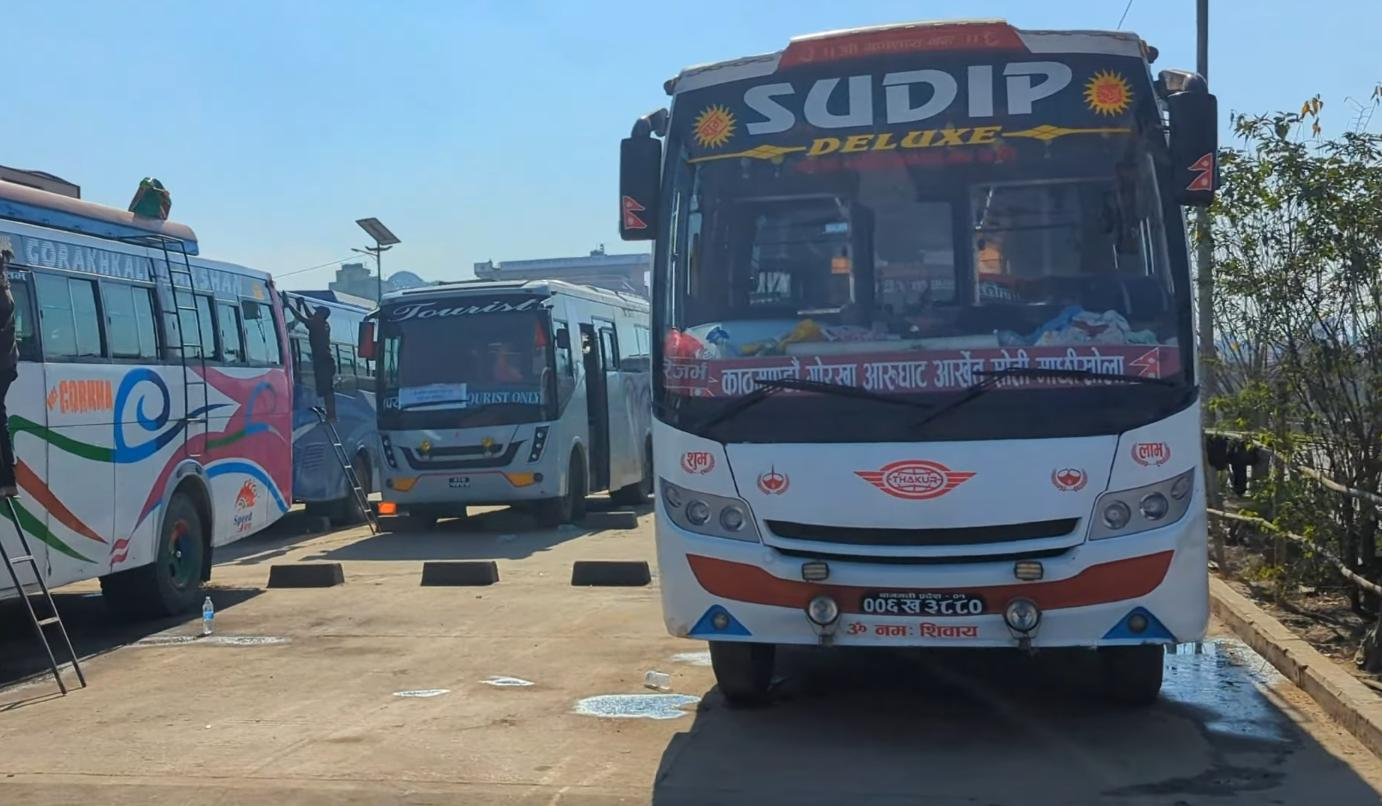bus: (602, 0, 1224, 702), (0, 162, 300, 627), (356, 261, 661, 532)
